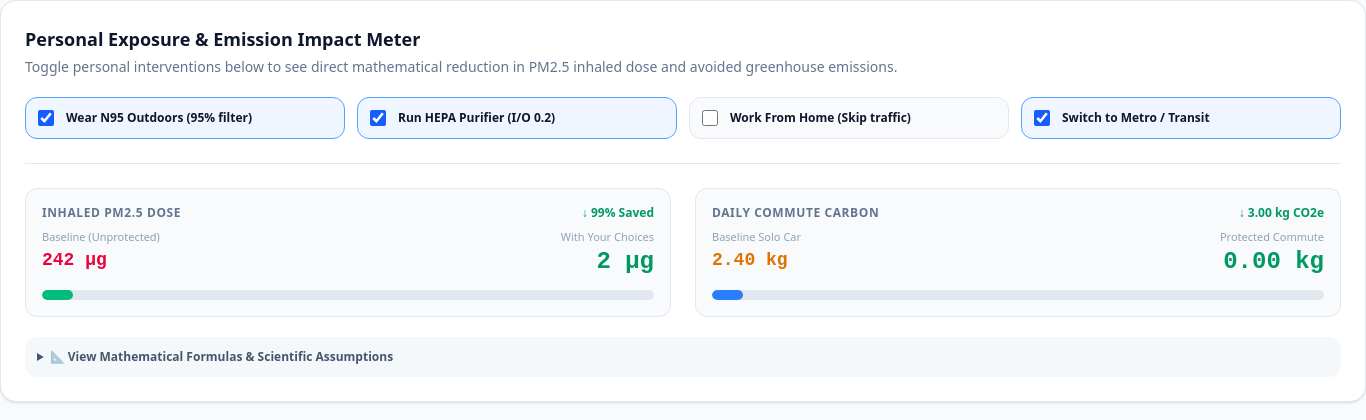
Test: dom events suite › ImpactView allows toggling N95 mask and HEPA purifier
Click the checkbox labelled "Wear N95 Outdoors (95% filter)" at {"x": 46, "y": 118}, box [38, 110, 54, 126]
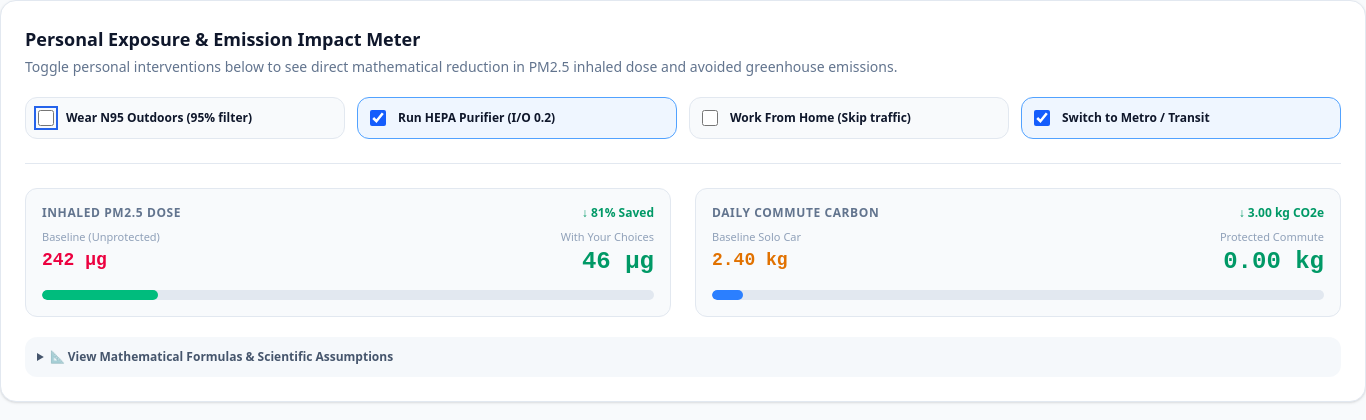
Result: the checkbox labelled "Wear N95 Outdoors (95% filter)" is not checked at [38, 110, 54, 126]
Click the checkbox labelled "Run HEPA Purifier (I/O 0.2)" at {"x": 378, "y": 118}, box [370, 110, 386, 126]
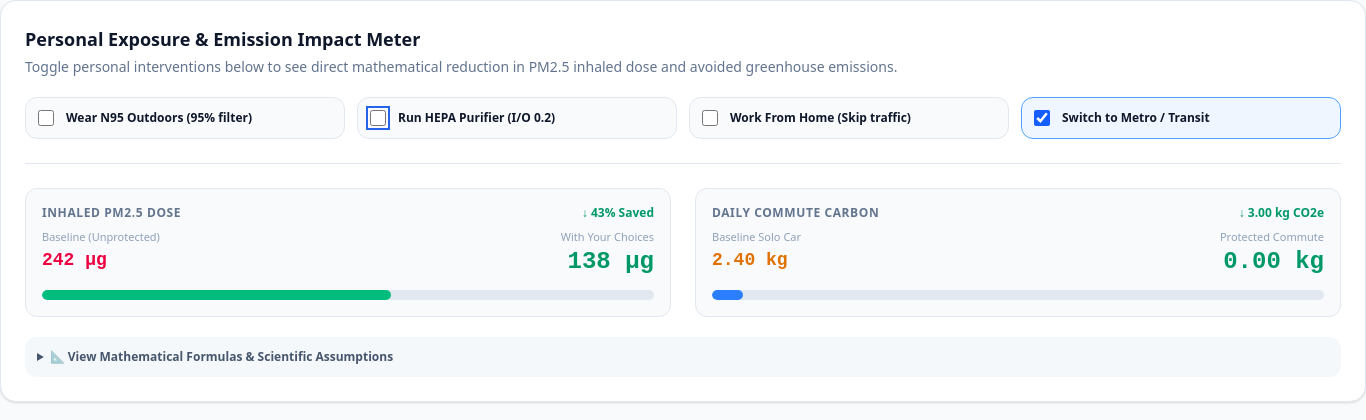
Result: the checkbox labelled "Run HEPA Purifier (I/O 0.2)" is not checked at [370, 110, 386, 126]
